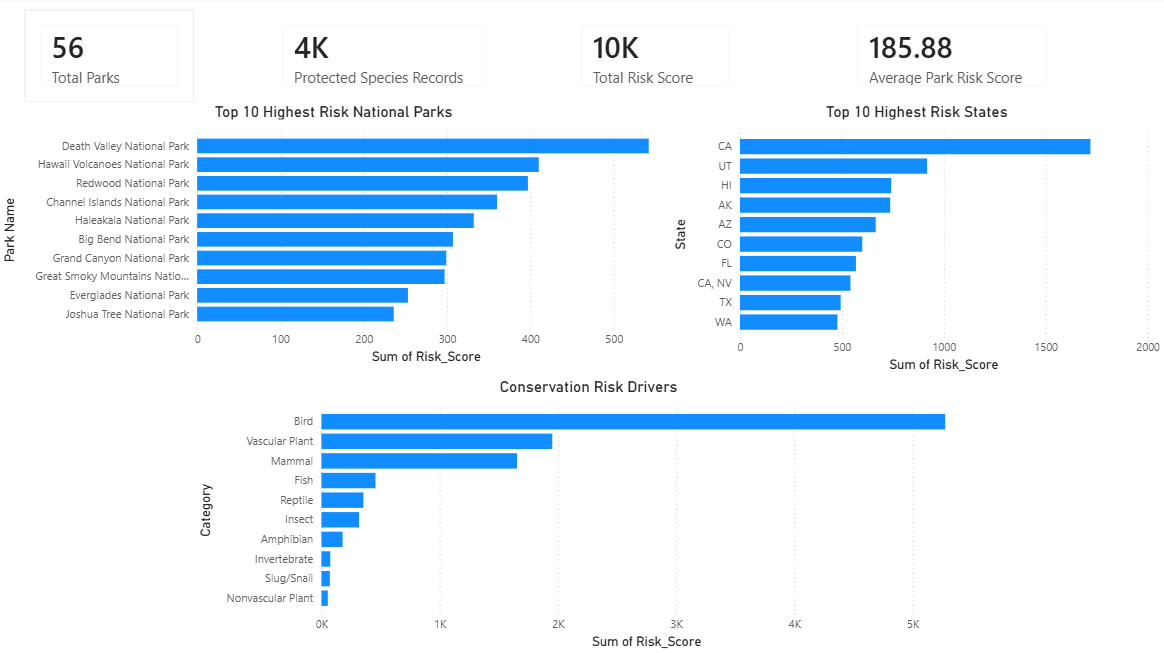

What the dashboard file says about the page in this screenshot:
{"tool":"powerbi","page":{"name":"Page 1Conservation Performance Dashboard","canvas":[1280,720],"ordinal":0},"visuals":[{"type":"cardVisual","title":"Total Parks","fields":{"Data":["Count(06_dashboard_dataset.Park Name)"]},"box":[28.8,13.7,186.6,101.5],"z":0},{"type":"cardVisual","title":"Protected Species Records","fields":{"Data":["Sum(06_dashboard_dataset.Protected_Species_Count)"]},"box":[295,13.7,255.2,101.5],"z":1},{"type":"cardVisual","title":"Total Risk Score","fields":{"Data":["Sum(06_dashboard_dataset.Risk_Score)"]},"box":[623,13.7,197.6,101.5],"z":2},{"type":"cardVisual","fields":{"Data":["Avg(06_dashboard_dataset.Risk_Score)"]},"box":[926.2,13.7,242.9,101.5],"z":3},{"type":"clusteredBarChart","title":"Top 10 Highest Risk National Parks","fields":{"Category":["06_dashboard_dataset.Park Name"],"Y":["Sum(06_dashboard_dataset.Risk_Score)"]},"box":[0,115.3,736.9,292.3],"z":4},{"type":"clusteredBarChart","title":"Top 10 Highest Risk States","fields":{"Category":["06_dashboard_dataset.State"],"Y":["Sum(06_dashboard_dataset.Risk_Score)"]},"box":[736.9,115.3,543.4,301.9],"z":5},{"type":"clusteredBarChart","title":"Conservation Risk Drivers","fields":{"Category":["07_risk_score_by_category.Category"],"Y":["Sum(07_risk_score_by_category.Risk_Score)"]},"box":[215.4,417.2,865.9,303.3],"z":6}]}

Visuals, with their boxes in screenshot pixels (x1, y1, x2, y2), scaled from the page's 1280x720 canvas onto the 1164x653 screenshot:
"Total Parks" cardVisual: [left=26, top=12, right=196, bottom=104]
"Protected Species Records" cardVisual: [left=268, top=12, right=500, bottom=104]
"Total Risk Score" cardVisual: [left=567, top=12, right=746, bottom=104]
cardVisual - Avg(06_dashboard_dataset.Risk_Score): [left=842, top=12, right=1063, bottom=104]
"Top 10 Highest Risk National Parks" clusteredBarChart: [left=0, top=105, right=670, bottom=370]
"Top 10 Highest Risk States" clusteredBarChart: [left=670, top=105, right=1163, bottom=378]
"Conservation Risk Drivers" clusteredBarChart: [left=196, top=378, right=983, bottom=652]
